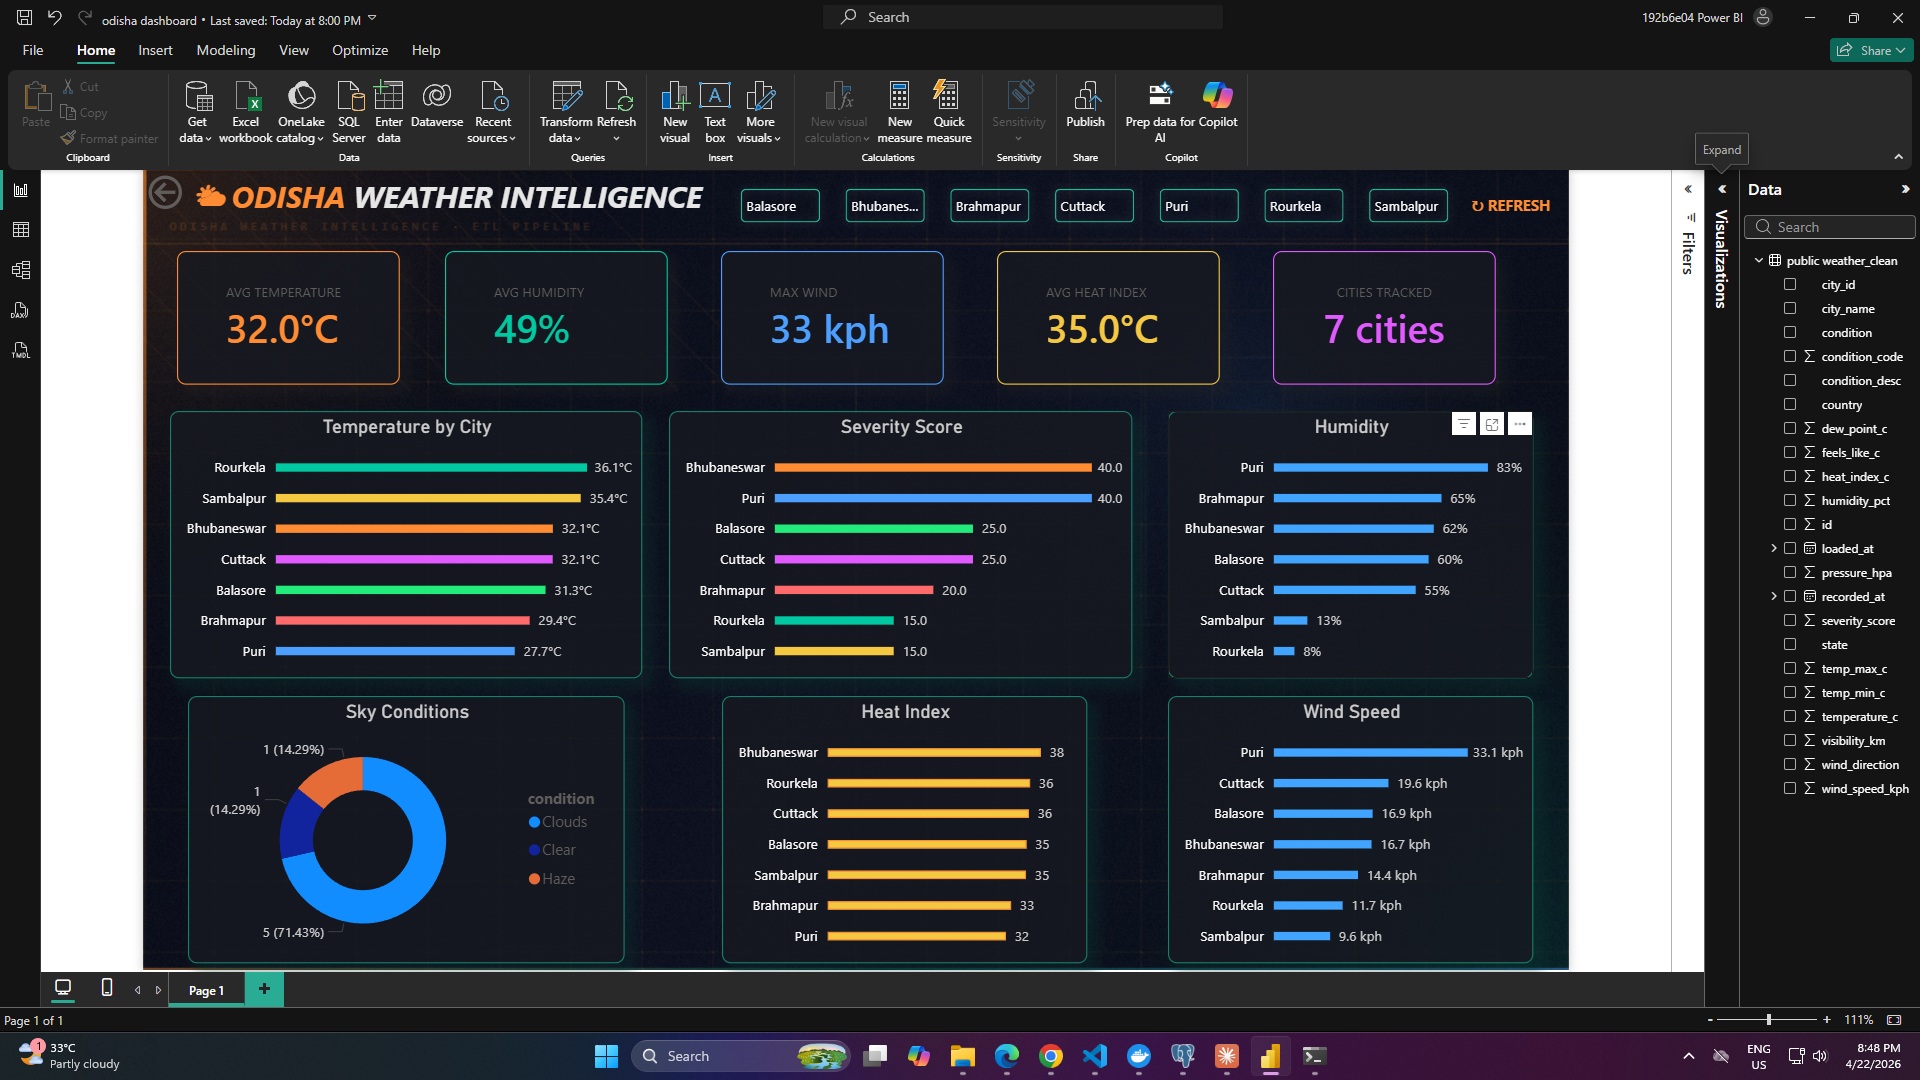

What the dashboard file says about the page in this screenshot:
{"tool":"powerbi","page":{"name":"Page 1","canvas":[1280,720],"ordinal":0},"visuals":[{"type":"cardVisual","fields":{"Data":["Avg(public weather_clean.temperature_c)"]},"box":[30.5,72.7,200,120],"z":0},{"type":"cardVisual","fields":{"Data":["Avg(public weather_clean.heat_index_c)"]},"box":[766.7,72.5,200,120],"z":1000},{"type":"cardVisual","fields":{"Data":["Max(public weather_clean.wind_speed_kph)"]},"box":[518.7,72.5,200,120],"z":2000},{"type":"cardVisual","title":"AVG HUMIDITY","fields":{"Data":["Avg(public weather_clean.humidity_pct)"]},"box":[270.7,72.5,200,120],"z":3000},{"type":"cardVisual","fields":{"Data":["Count(public weather_clean.city_name)"]},"box":[1014.7,72.5,200,120],"z":4000},{"type":"clusteredBarChart","title":"Temperature by City","fields":{"Y":["Avg(public weather_clean.temperature_c)"],"Category":["public weather_clean.city_name"]},"box":[24,216,424,240],"z":5000},{"type":"clusteredBarChart","title":"Severity Score ","fields":{"Category":["public weather_clean.city_name"],"Y":["Avg(public weather_clean.severity_score)"]},"box":[472,216,416,240],"z":6000},{"type":"actionButton","box":[0,0,100,40],"z":7000},{"type":"donutChart","title":"Sky Conditions","fields":{"Y":["CountNonNull(public weather_clean.city_name)"],"Category":["public weather_clean.condition"]},"box":[40,472,392,240],"z":8000},{"type":"clusteredBarChart","title":"Humidity ","fields":{"Category":["public weather_clean.city_name"],"Y":["Sum(public weather_clean.humidity_pct)"]},"box":[920,216,328,240],"z":9000},{"type":"clusteredBarChart","title":"Wind Speed","fields":{"Category":["public weather_clean.city_name"],"Y":["Sum(public weather_clean.wind_speed_kph)"]},"box":[920,472,328,240],"z":10000},{"type":"textbox","box":[40,0,520,72],"z":11000},{"type":"advancedSlicerVisual","fields":{"Values":["public weather_clean.city_name"]},"box":[520,0,672,64],"z":12000},{"type":"clusteredBarChart","title":"Heat Index","fields":{"Category":["public weather_clean.city_name"],"Y":["Sum(public weather_clean.heat_index_c)"]},"box":[520,472,328,240],"z":12001},{"type":"actionButton","box":[1184,8,88,48],"z":12002}]}

Visuals, with their boxes on the page's 1280x720 design canvas (x1, y1, x2, y2). These are canvas units, not pixel positions in the 1920x1080 screenshot, which may show the page scaled, cropped or inside an application window:
cardVisual - Avg(public weather_clean.temperature_c): bbox(30, 73, 230, 193)
cardVisual - Avg(public weather_clean.heat_index_c): bbox(767, 72, 967, 192)
cardVisual - Max(public weather_clean.wind_speed_kph): bbox(519, 72, 719, 192)
"AVG HUMIDITY" cardVisual: bbox(271, 72, 471, 192)
cardVisual - Count(public weather_clean.city_name): bbox(1015, 72, 1215, 192)
"Temperature by City" clusteredBarChart: bbox(24, 216, 448, 456)
"Severity Score " clusteredBarChart: bbox(472, 216, 888, 456)
actionButton: bbox(0, 0, 100, 40)
"Sky Conditions" donutChart: bbox(40, 472, 432, 712)
"Humidity " clusteredBarChart: bbox(920, 216, 1248, 456)
"Wind Speed" clusteredBarChart: bbox(920, 472, 1248, 712)
textbox: bbox(40, 0, 560, 72)
advancedSlicerVisual - public weather_clean.city_name: bbox(520, 0, 1192, 64)
"Heat Index" clusteredBarChart: bbox(520, 472, 848, 712)
actionButton: bbox(1184, 8, 1272, 56)
